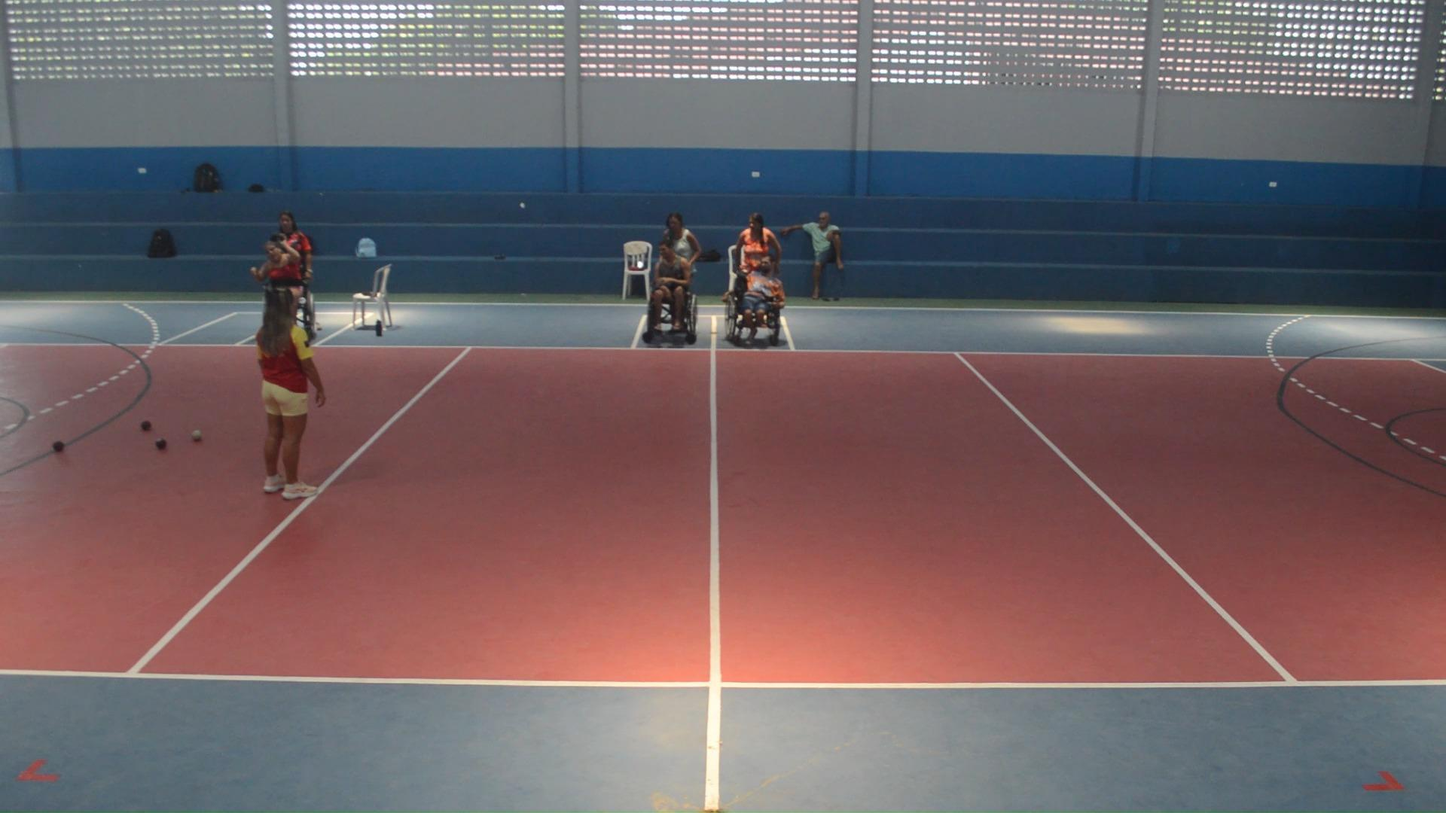red_ball: (157, 439, 166, 450), (53, 442, 64, 451), (141, 421, 150, 429)
white_ball: (193, 430, 201, 440)
